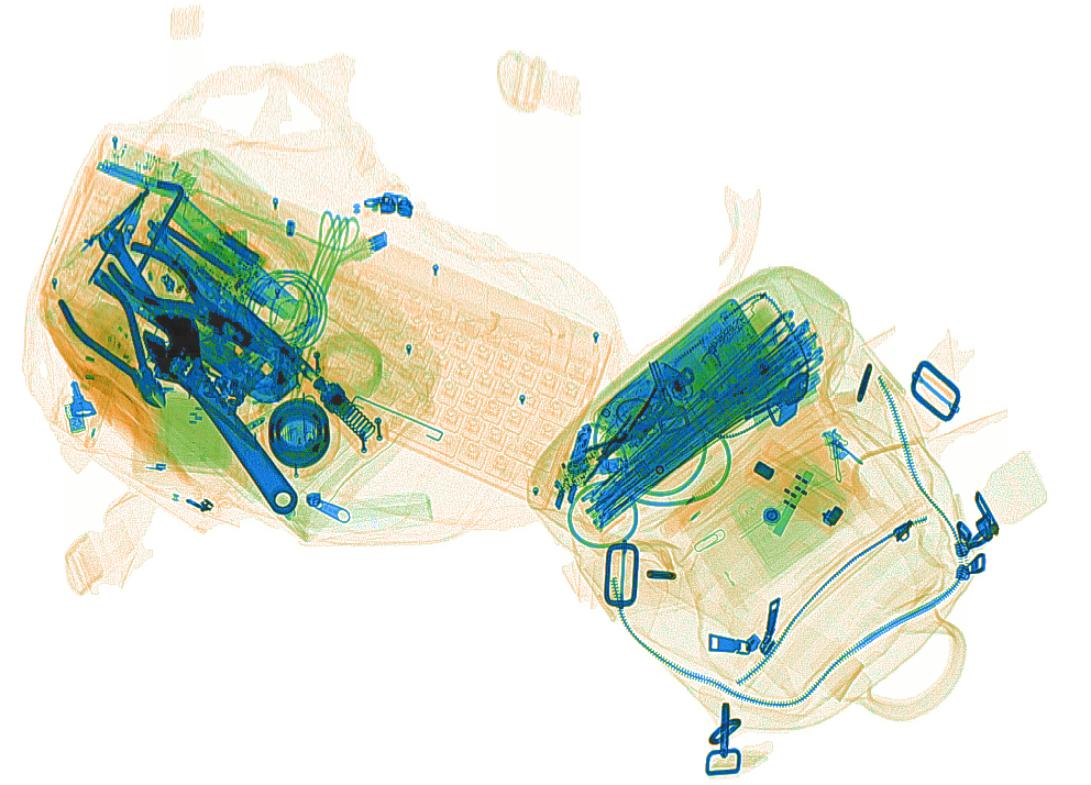USBFlashDisk: (63, 400, 86, 435)
